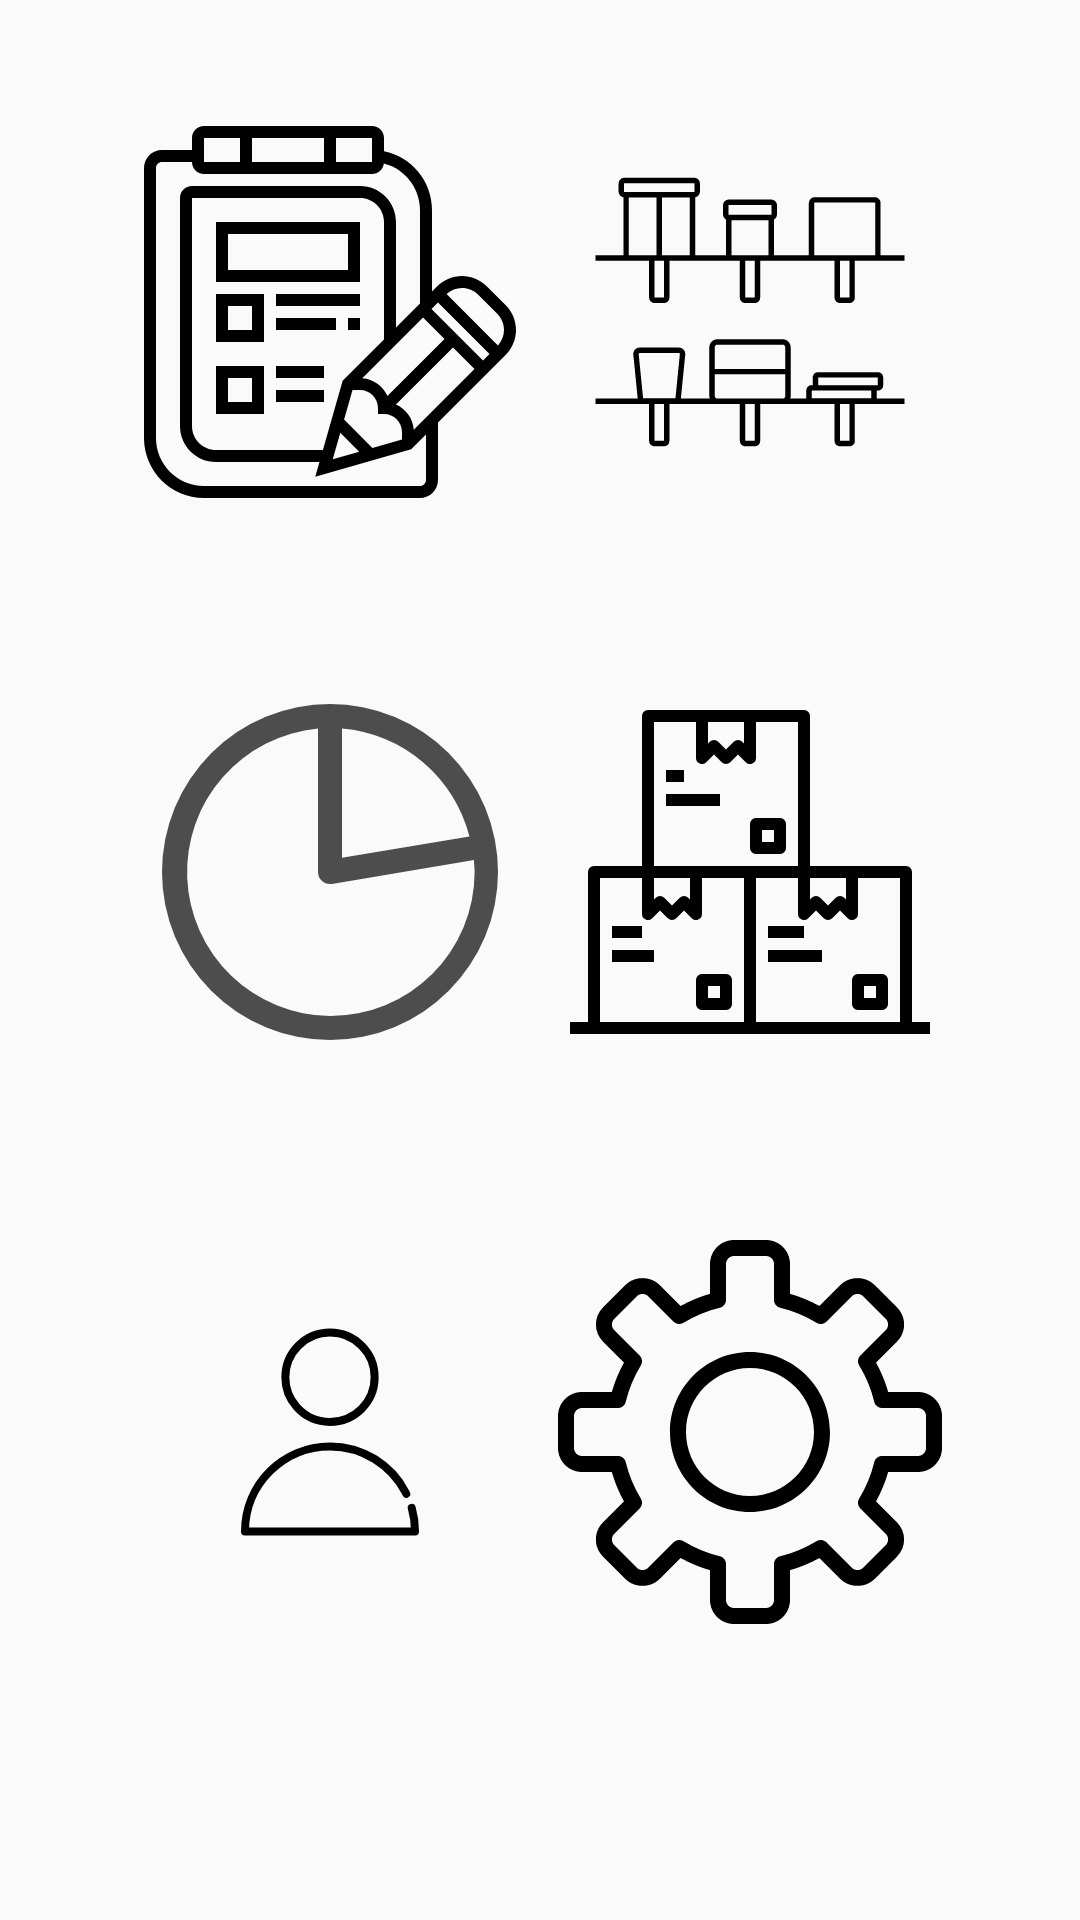

Locate icon controls on the screen. Image size 1080px x 1920px, boxes as (x1, y1, x2, y2).
sector: (162, 704, 498, 1040)
user: (241, 1328, 419, 1536)
